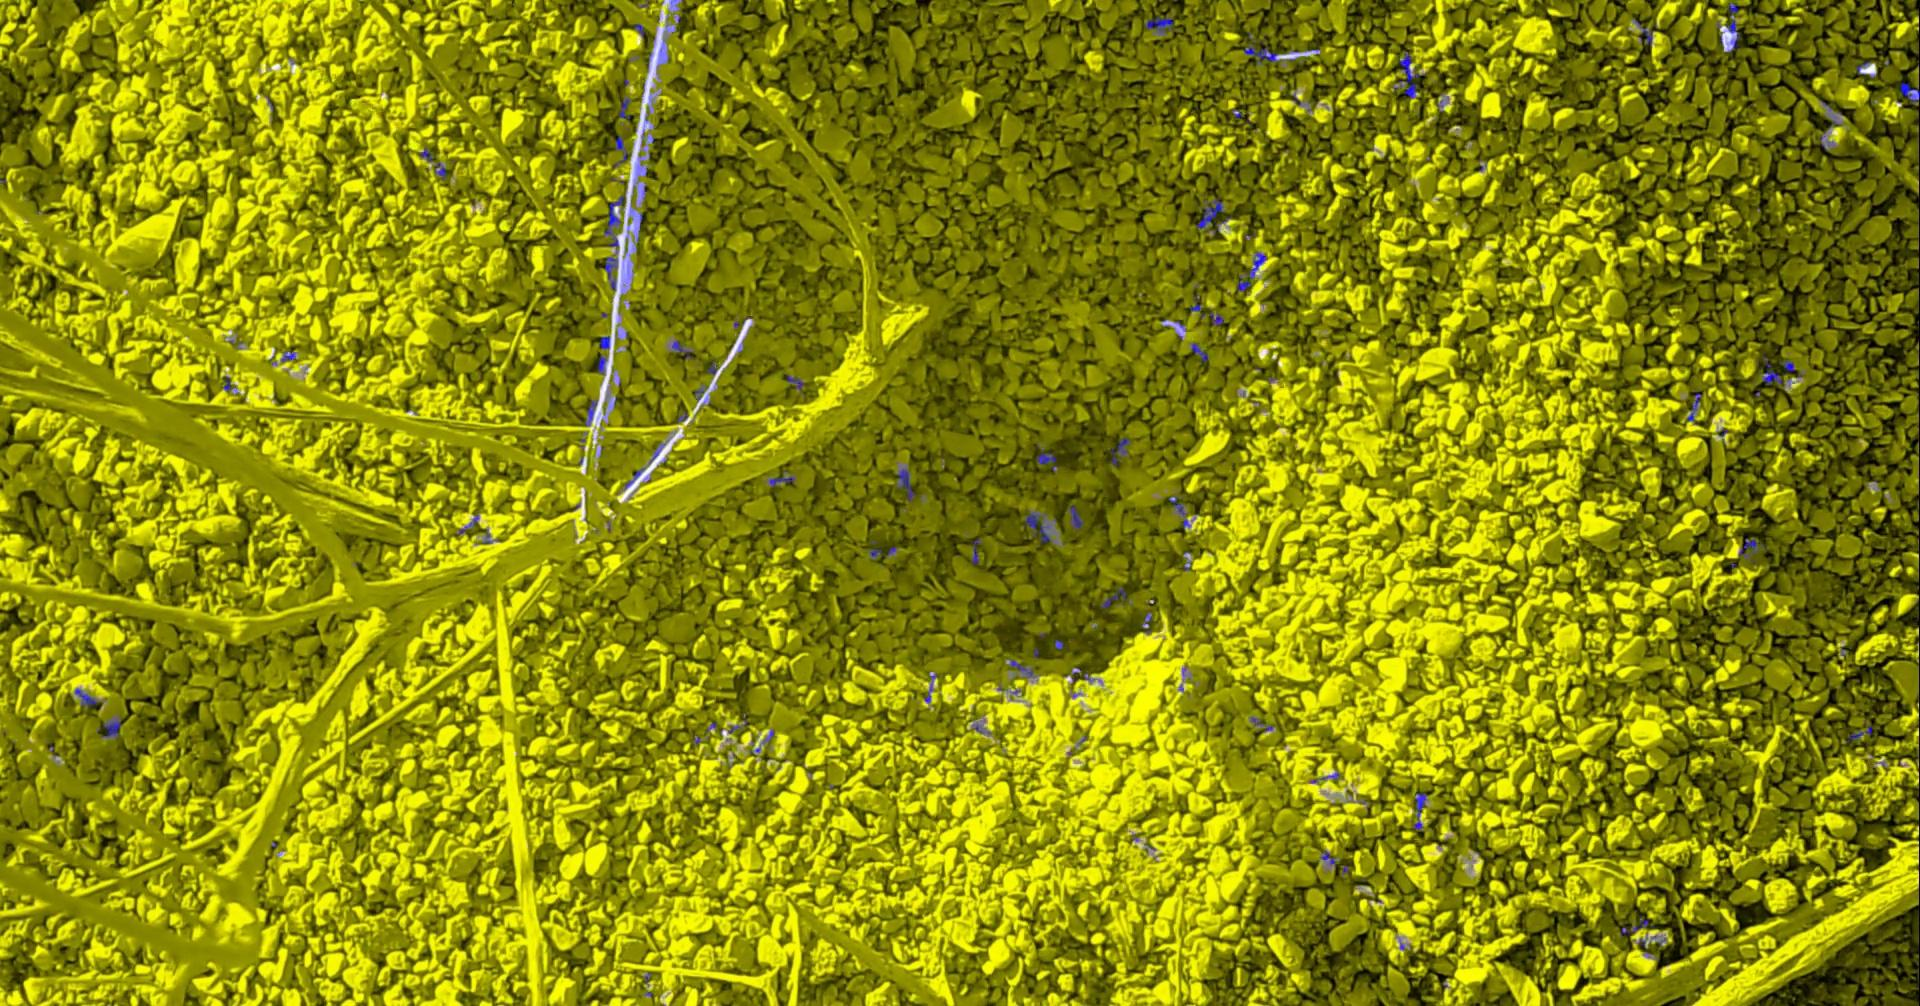ant: (1244, 30, 1297, 64), (604, 196, 627, 248), (1396, 52, 1422, 97), (1239, 251, 1267, 291), (1197, 198, 1225, 234), (1025, 509, 1053, 542), (1726, 3, 1741, 52), (1170, 495, 1191, 527), (1111, 436, 1133, 466), (897, 467, 916, 500), (1622, 916, 1655, 935), (1740, 537, 1768, 559), (1101, 586, 1128, 607), (1764, 356, 1784, 384), (1147, 17, 1178, 33), (613, 135, 630, 166), (1415, 793, 1429, 829), (1688, 387, 1703, 420), (1037, 448, 1059, 471), (606, 254, 618, 290), (1901, 81, 1920, 104), (76, 688, 99, 706), (1072, 666, 1096, 682), (673, 340, 695, 358), (1012, 659, 1035, 676), (770, 471, 796, 485), (104, 719, 122, 738), (1201, 311, 1225, 325), (1070, 504, 1084, 528), (1850, 725, 1874, 739), (585, 400, 598, 426), (1252, 716, 1275, 730), (1192, 342, 1209, 361), (620, 97, 632, 121), (870, 540, 884, 559), (789, 373, 805, 389), (1321, 850, 1337, 865), (1641, 27, 1655, 44), (1143, 611, 1154, 633), (973, 539, 982, 563), (420, 147, 434, 161), (436, 163, 447, 179), (1191, 295, 1203, 311), (599, 353, 608, 373), (1783, 359, 1797, 371), (599, 337, 611, 348)
